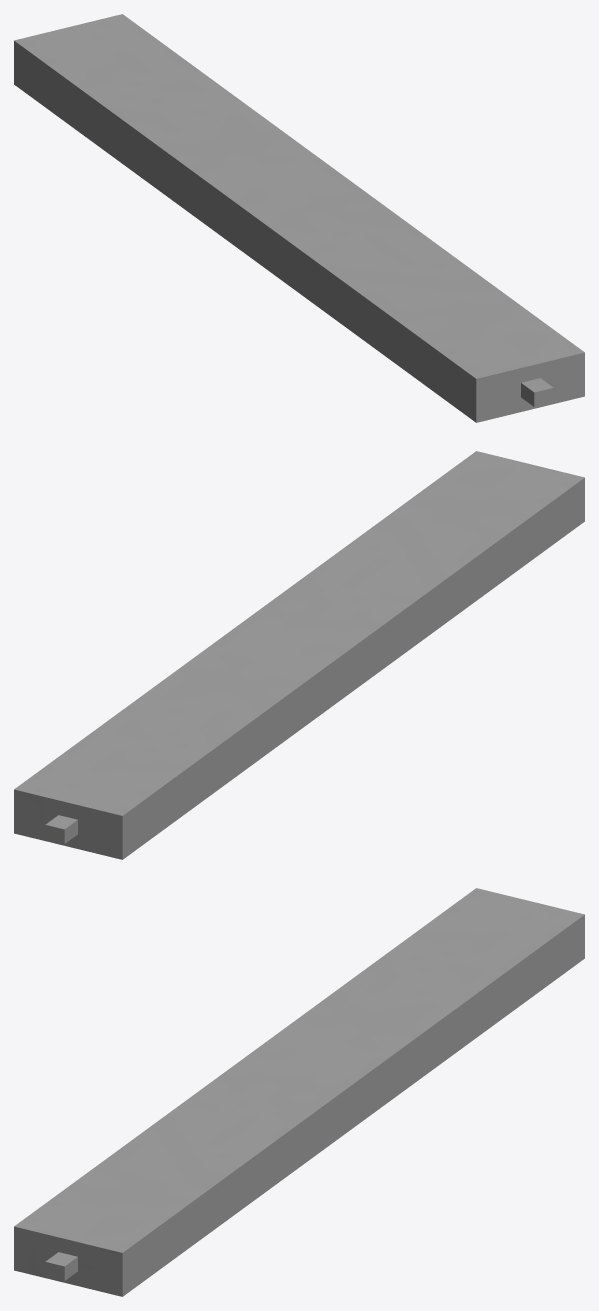
File: Light_03.fbx
3 renders of one model, top to bottom at view 1: azimuth 30°, elevation 25°; view 2: azimuth 150°, elevation 25°; view 3: azimuth 330°, elevation 25°, orthographic.
Parts seen in each view (by area): view 1: Light_03; view 2: Light_03; view 3: Light_03.
Boxes of the visible parts, bbox=[...] form: Light_03: bbox=[14, 14, 584, 422]; Light_03: bbox=[14, 451, 584, 859]; Light_03: bbox=[14, 888, 584, 1296].
Size of the model in its own units: 0.1356 by 0.0626 by 1.06.
